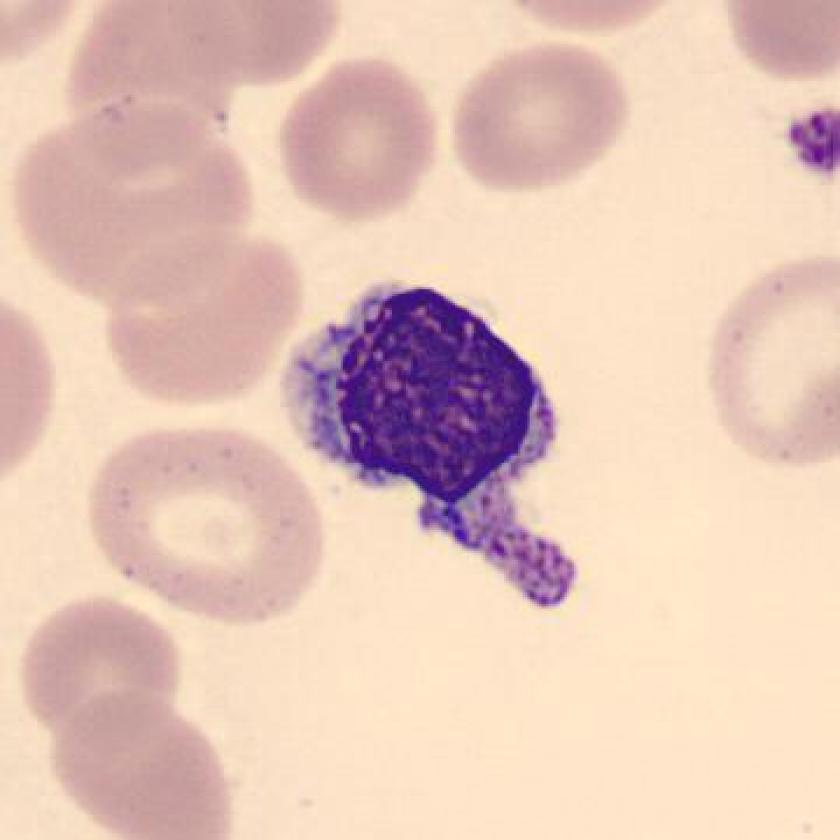lymphocyte: (255, 265, 617, 630)
